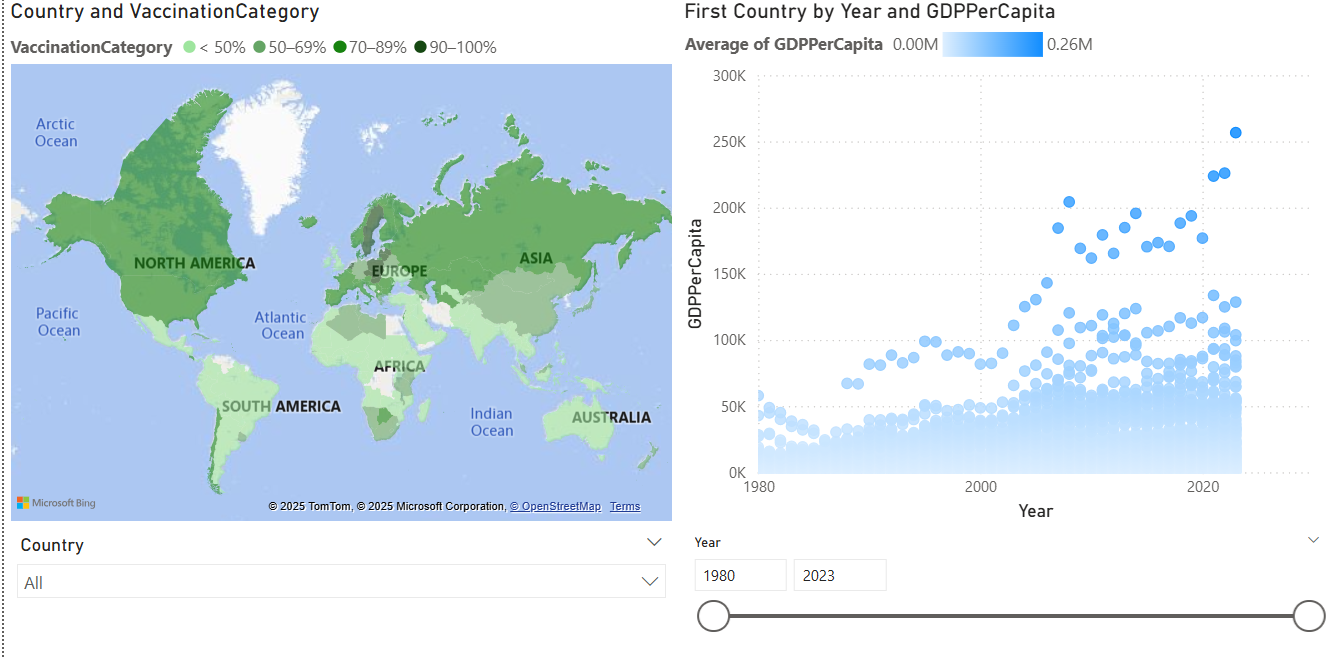

The page's visual inventory and layout, read from the dashboard file:
{"tool":"powerbi","page":{"name":"Page 1","canvas":[1280,720],"ordinal":0},"visuals":[{"type":"filledMap","fields":{"Series":["gdp_vac_comb.VaccinationCategory"],"Category":["gdp_vac_comb.Country"]},"box":[0,0,539,424],"z":0},{"type":"scatterChart","fields":{"X":["gdp_vac_comb.Year"],"Y":["gdp_vac_comb.GDPPerCapita"]},"box":[539,0,526,424],"z":1000},{"type":"slicer","fields":{"Values":["gdp_vac_comb.Year"]},"box":[539,424,526,107],"z":2000},{"type":"slicer","fields":{"Values":["gdp_vac_comb.Country"]},"box":[0,424,539,85],"z":3000}]}

Visuals, with their boxes on the page's 1280x720 design canvas (x1, y1, x2, y2). These are canvas units, not pixel positions in the 1334x658 screenshot, which may show the page scaled, cropped or inside an application window:
filledMap - gdp_vac_comb.VaccinationCategory x gdp_vac_comb.Country: [0,0,539,424]
scatterChart - gdp_vac_comb.Year x gdp_vac_comb.GDPPerCapita: [539,0,1065,424]
slicer - gdp_vac_comb.Year: [539,424,1065,531]
slicer - gdp_vac_comb.Country: [0,424,539,509]
